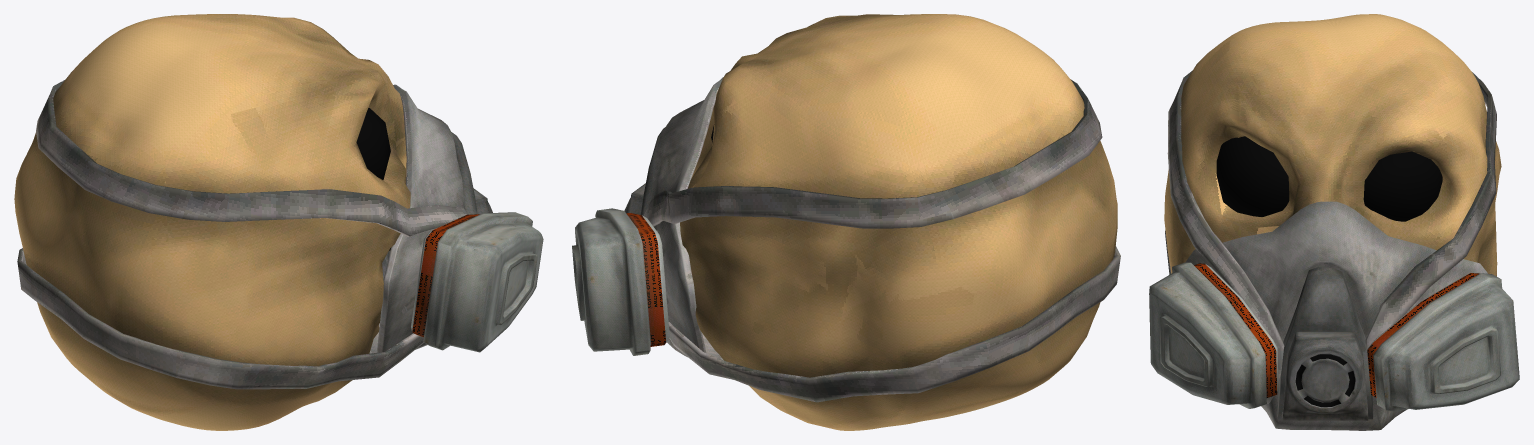
File: mp_customization respirator2.glb
The picture shows the model from 3 angles, left to right: view 1: azimuth 30°, elevation 25°; view 2: azimuth 150°, elevation 25°; view 3: azimuth 270°, elevation 25°; orthographic projection. The views are drawn at different scales.
Parts seen in each view (by area): view 1: Sphere_003; view 2: Sphere_003; view 3: Sphere_003.
Part boxes in pixels (bbox=[...]): Sphere_003: bbox=[14, 14, 543, 430]; Sphere_003: bbox=[572, 14, 1120, 430]; Sphere_003: bbox=[1149, 14, 1519, 430].
Size of the model in its own units: 2.07 by 1.69 by 1.65.
6 materials, 4 textured.
